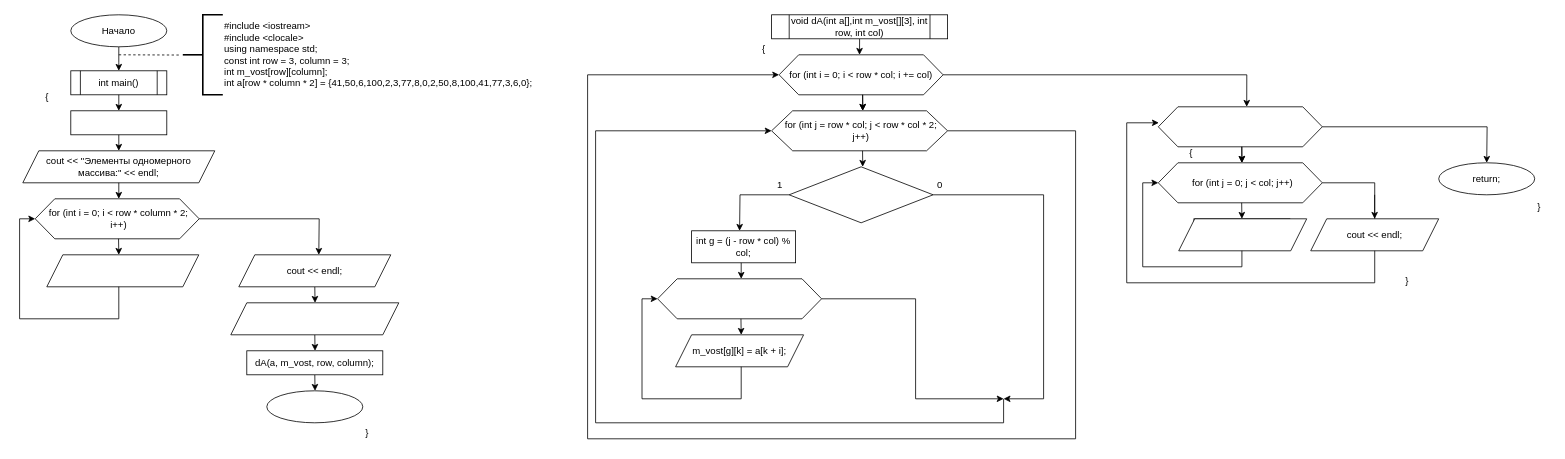
This 1565x459 diagram has some shape labels left out. The shapes that lost their labels are listed below. From the top down, each one's centre as x and y in pixels, then its label:
(118,122): setlocale(LC_ALL, "Russian");
(1240,126): for (int i = 0; i < row; i++)
(860,194): if (a[i] == a[j])
(1242,234): cout << m_vost[i][j] << ' ';
(122,270): cout << a[i] << ' ';
(314,318): cout << "Восстановленный двумерный массив:" << endl;
(739,298): for (int k = 0; k < col; k++)
(314,406): return 0;
